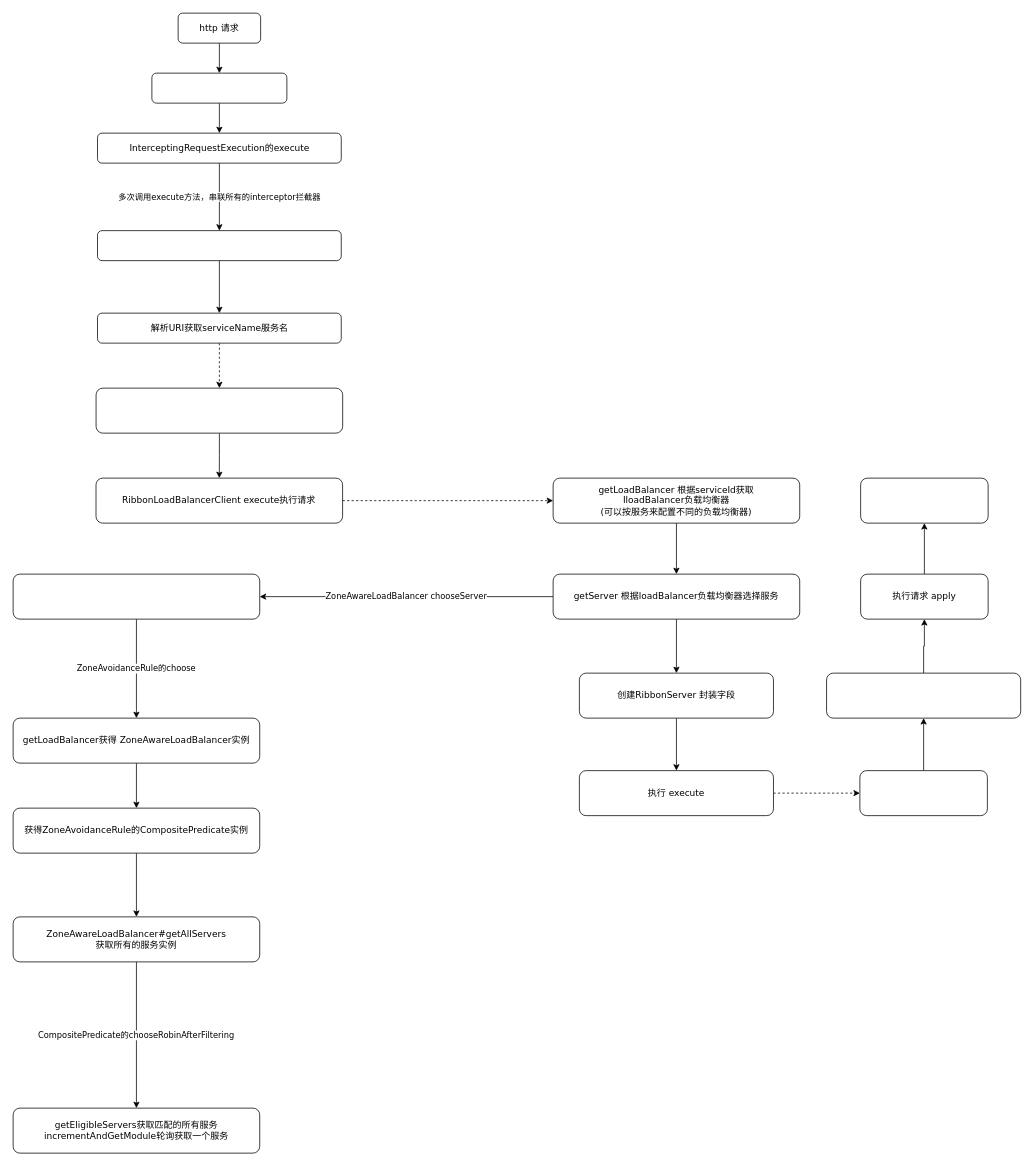
Image size: 1034x1166. Some labels were removed from this diagram. The shapes that lost their labels are listed below. From the top down, each one's box as (x1, y1, x2, y2) in pixels, then its label:
(151, 72, 287, 103): restTemplate.getForObject
(97, 230, 341, 261): LoadBalanceInterceptor的intercept
(95, 387, 343, 433): LoadBalancerRequestFactory创建LoadBalancerRequest
(860, 477, 988, 523): 返回 returnVal
(12, 573, 260, 619): BaseLoadBalancer的chooseServer
(826, 672, 1021, 718): 获取RibbonBalancerContext对象
(859, 770, 987, 816): 获取服务地址 execute
